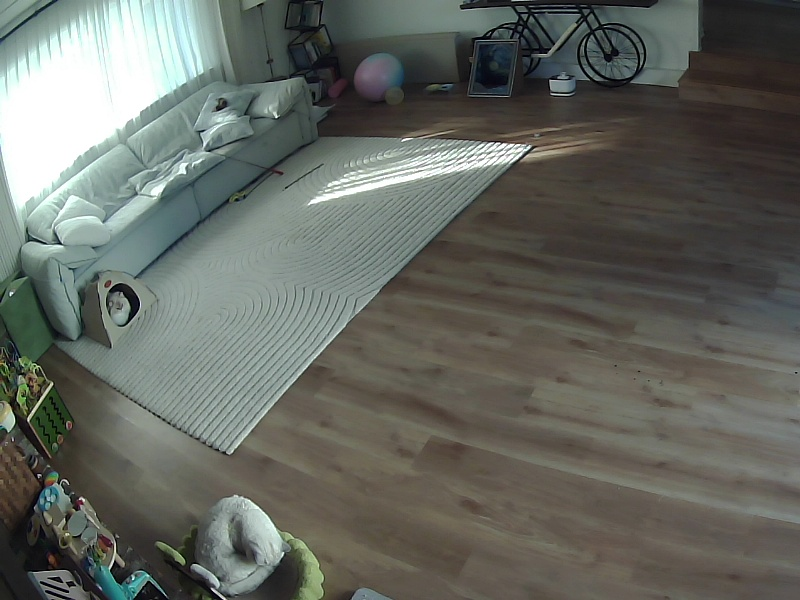Qb-2: (194, 495, 289, 594)
Qbo-2: (106, 290, 130, 326)
